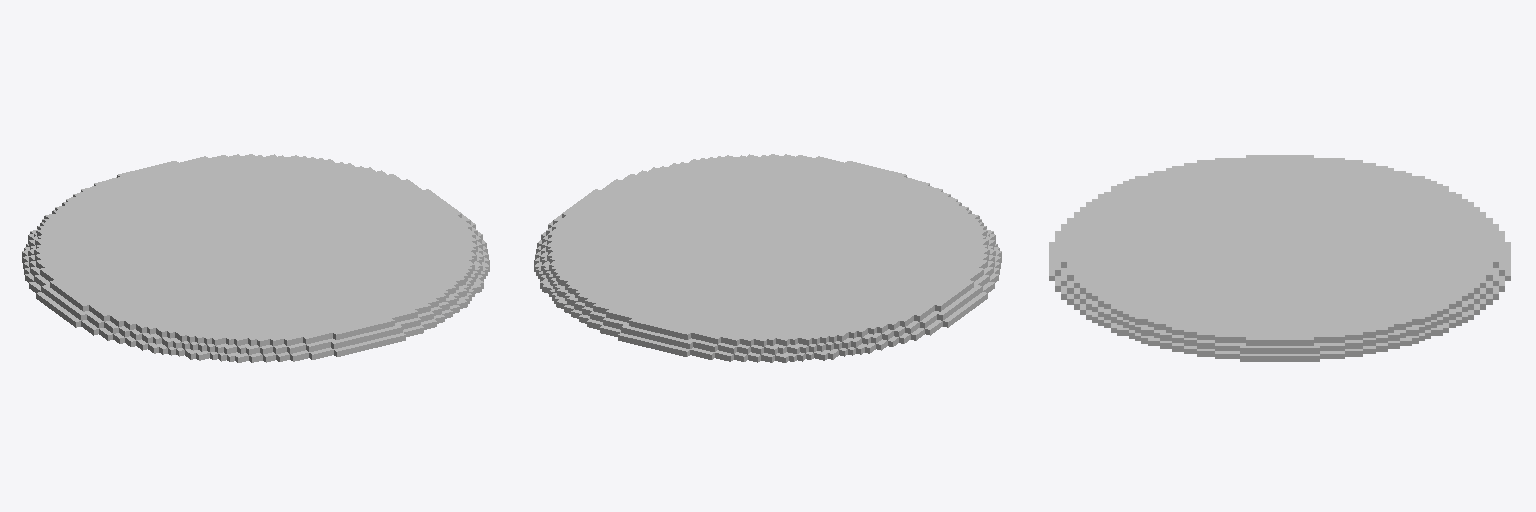
File: pressure plate(nobutton).obj
The picture shows the model from 3 angles: view 1: azimuth 30°, elevation 25°; view 2: azimuth 150°, elevation 25°; view 3: azimuth 270°, elevation 25°; orthographic projection.
Size of the model in its own units: 75 by 3 by 75.